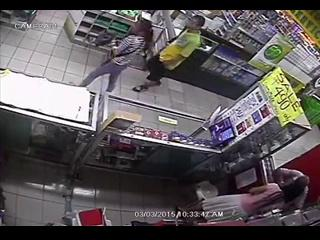Normal: (77, 19, 154, 94), (133, 15, 207, 92)
